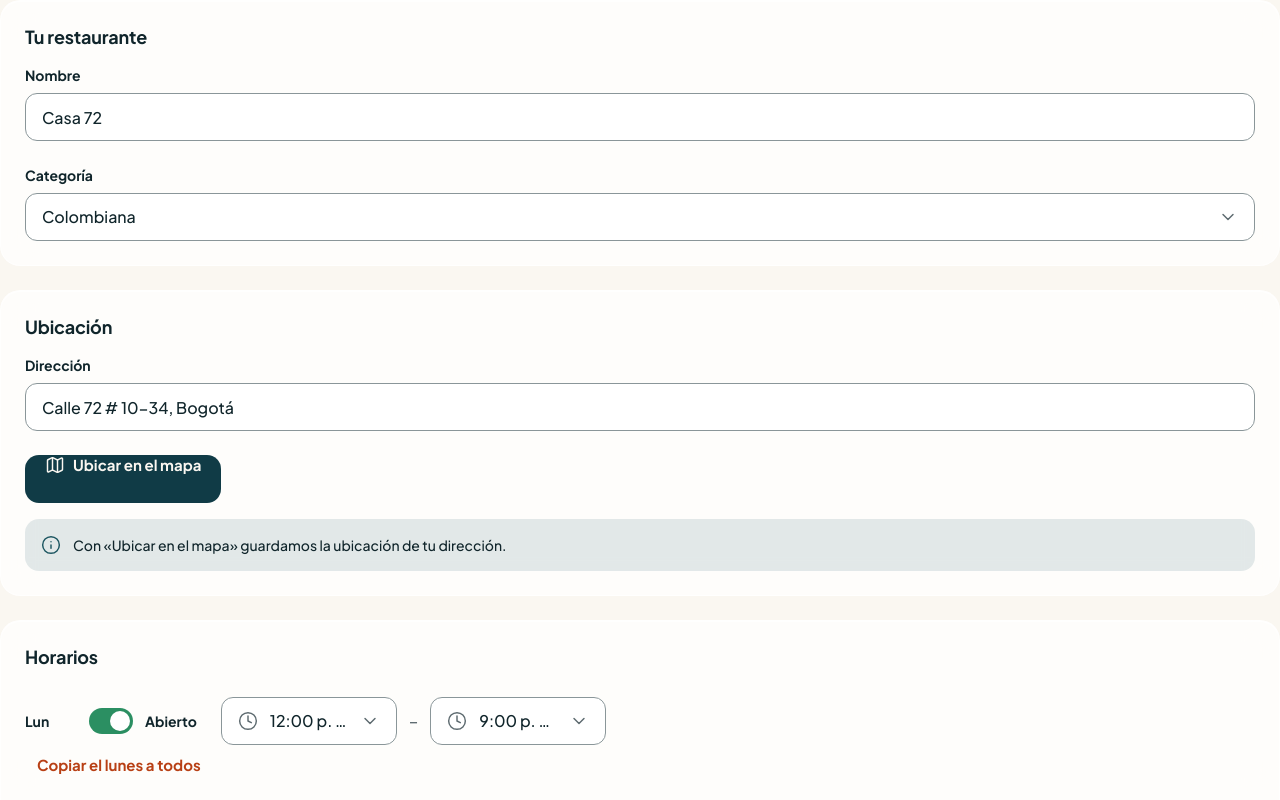
Test: RestaurantForm · mapa que no carga › without map, an address outside Bogotá says so (404 ADDRESS_NOT_FOUND)
Click the button "Ubicar en el mapa". click: (123, 479)
box: [25,455,221,503]
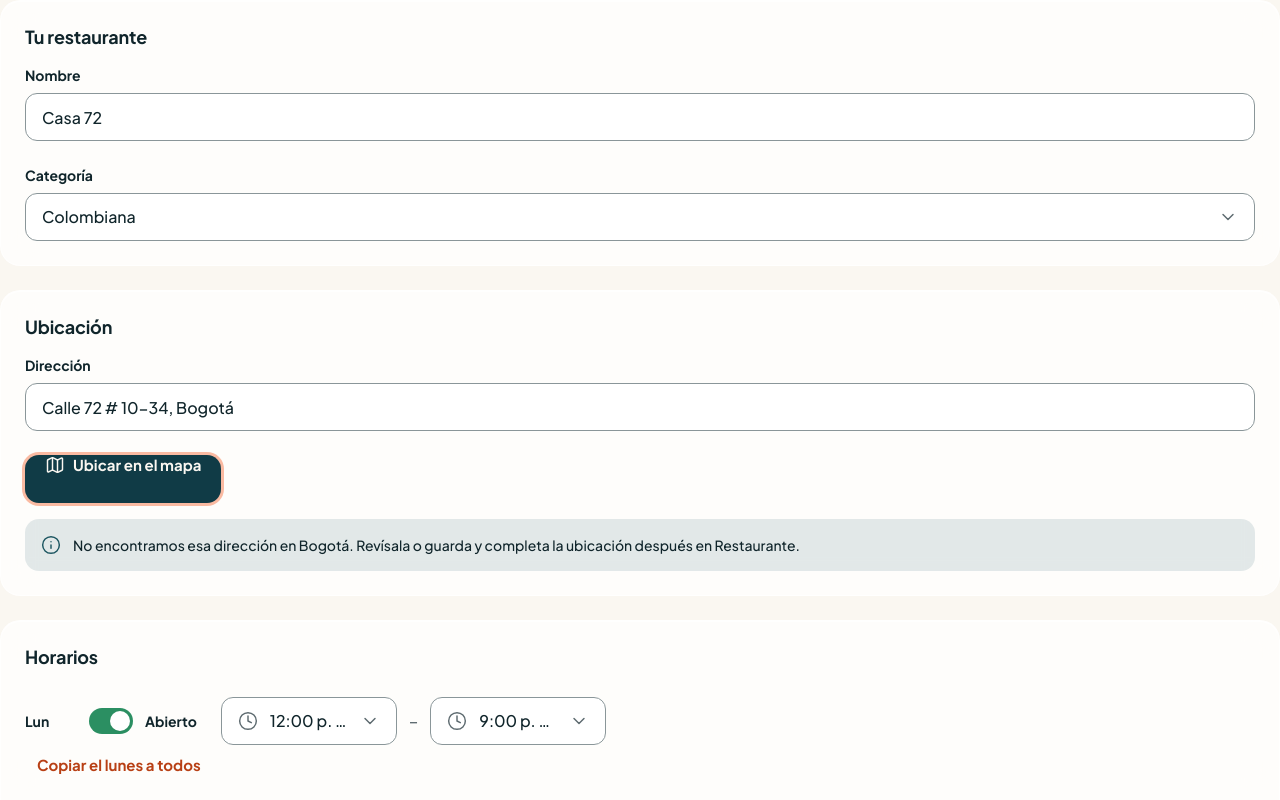
Result: the text "No encontramos esa dirección en Bogotá. Revísala o guarda y completa la ubicación después en Restaurante." is shown at [73,536,800,554]
